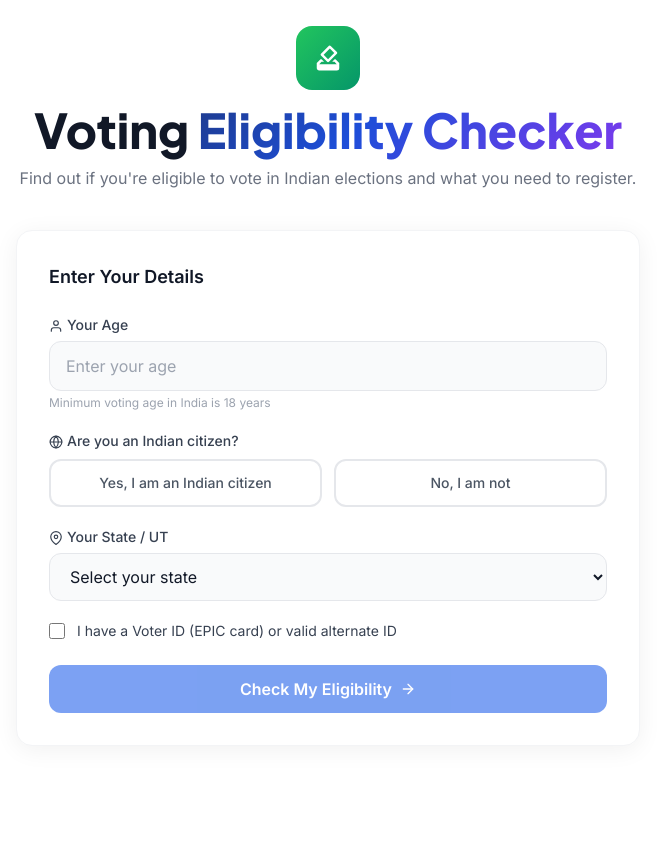
Test case: Eligibility page › announces an eligible voter result with next registration steps
The width and height of the screenshot is (657, 847).
Type "22" into the number field labelled "Your Age" at (328, 366), box left=49, top=341, right=607, bottom=391
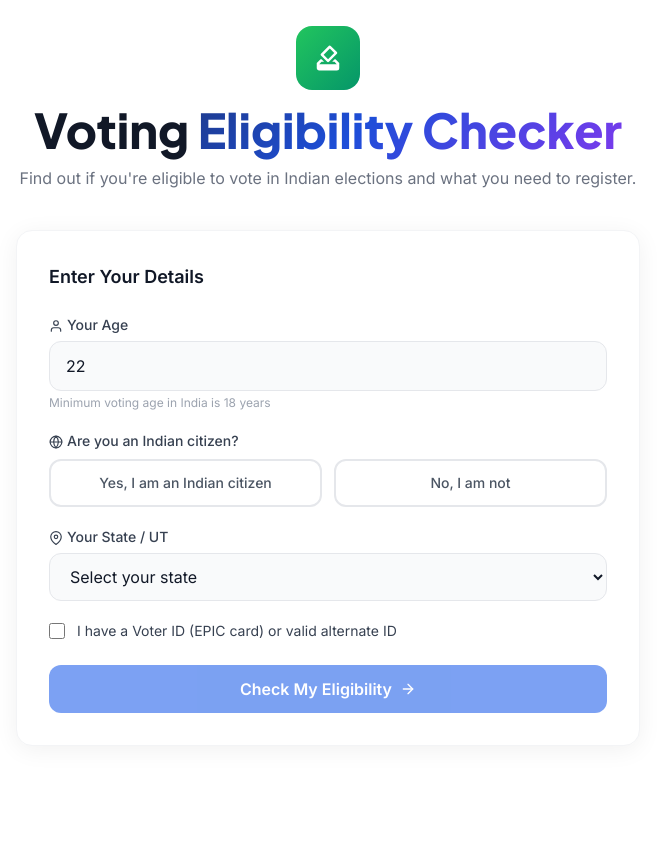
Click the radio button labelled "Yes, I am an Indian citizen" at (186, 483), box left=49, top=459, right=322, bottom=507
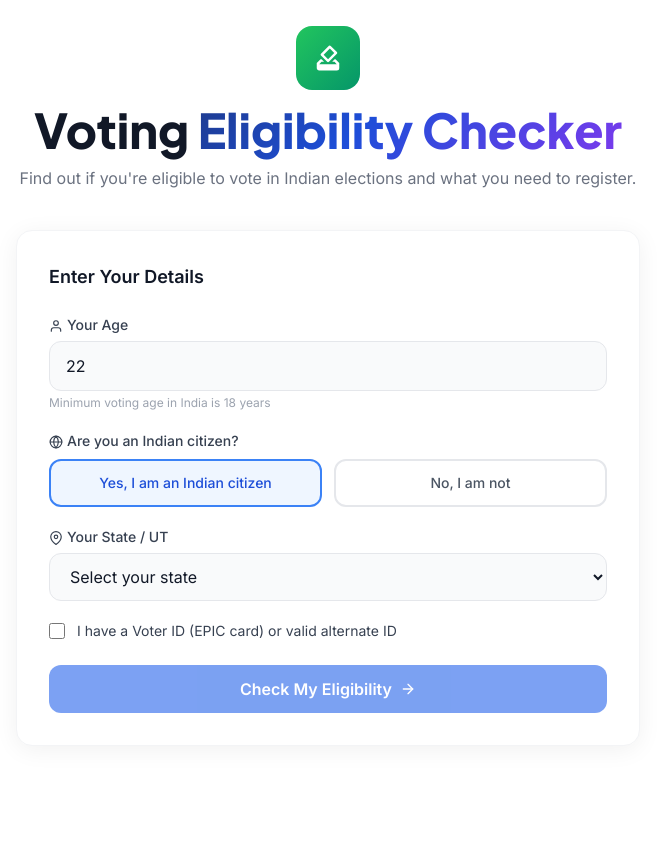
Select "Maharashtra" in the dropdown named "Select your state or union territory" at (328, 577), box left=49, top=553, right=607, bottom=601
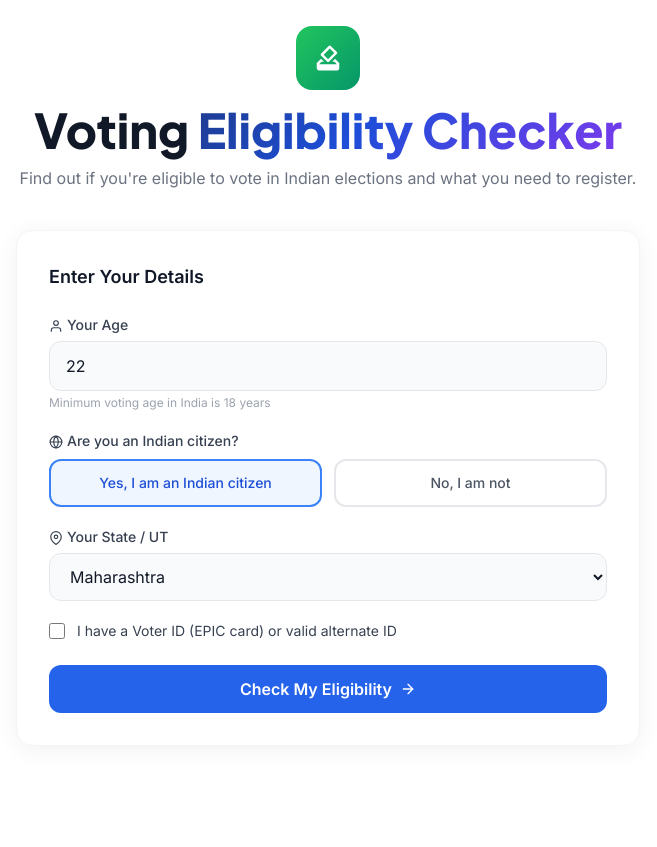
Click the button with aria-label "Check voting eligibility" at (328, 689), box left=49, top=665, right=607, bottom=713
(page scrolled)
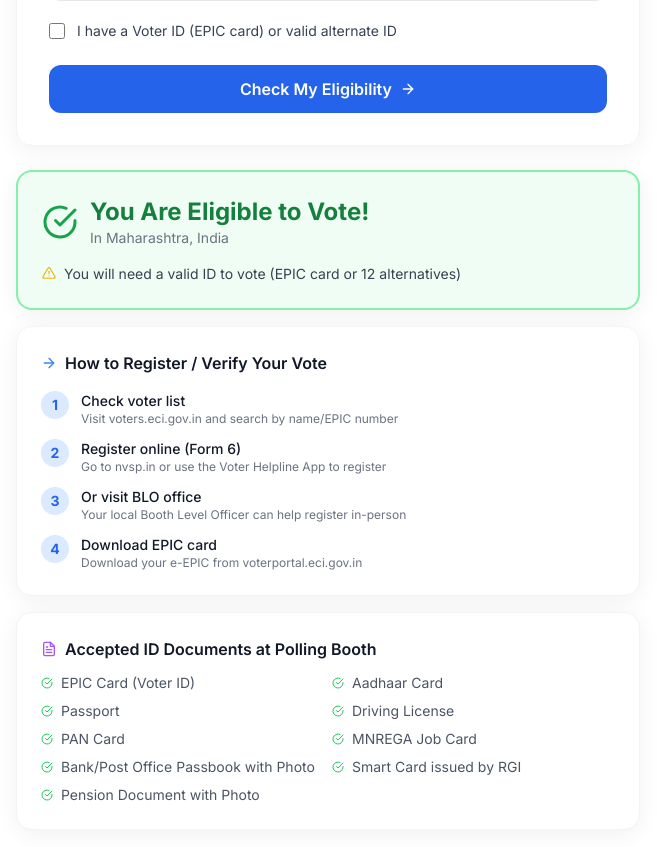
expect the element named "Eligibility result" shows "You Are Eligible to Vote!": met, box left=90, top=197, right=369, bottom=226
expect the element named "Eligibility result" shows "How to Register / Verify Your Vote": met, box left=65, top=353, right=327, bottom=373
expect the element named "Eligibility result" shows "Accepted ID Documents at Polling Booth": met, box left=65, top=639, right=377, bottom=659
